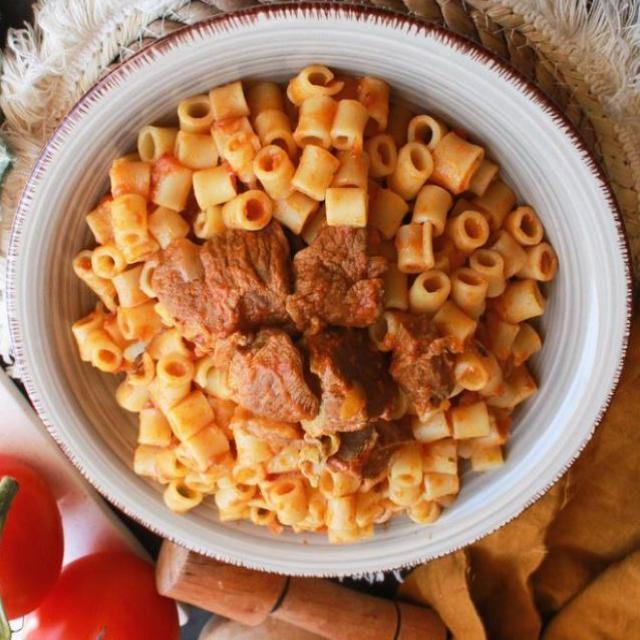Pasta: (67, 77, 589, 561)
